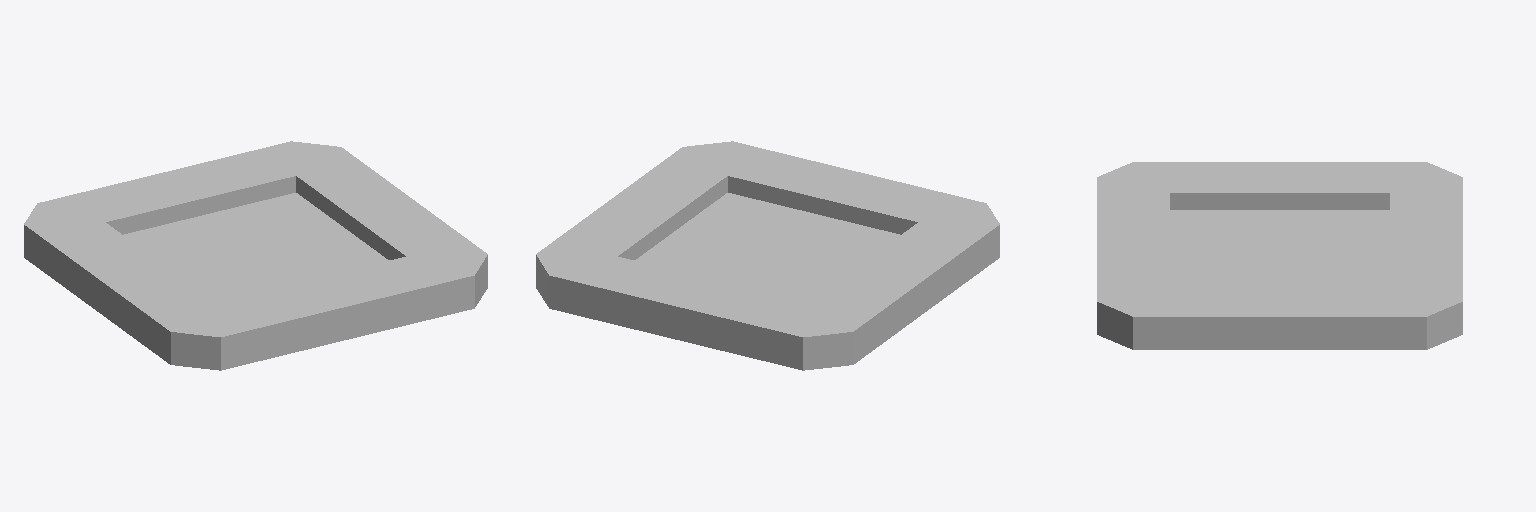
The model's file is paltformsmall.obj.
3 renders of one model, left to right at view 1: azimuth 30°, elevation 25°; view 2: azimuth 150°, elevation 25°; view 3: azimuth 270°, elevation 25°, orthographic.
Parts seen in each view (by area): view 1: platform_small; view 2: platform_small; view 3: platform_small.
Part boxes in pixels (left/top/right/bottom): platform_small: left=24, top=141, right=487, bottom=370; platform_small: left=536, top=141, right=999, bottom=370; platform_small: left=1097, top=162, right=1462, bottom=349.
Bounding box in the file's own units: 1 × 0.1 × 1.